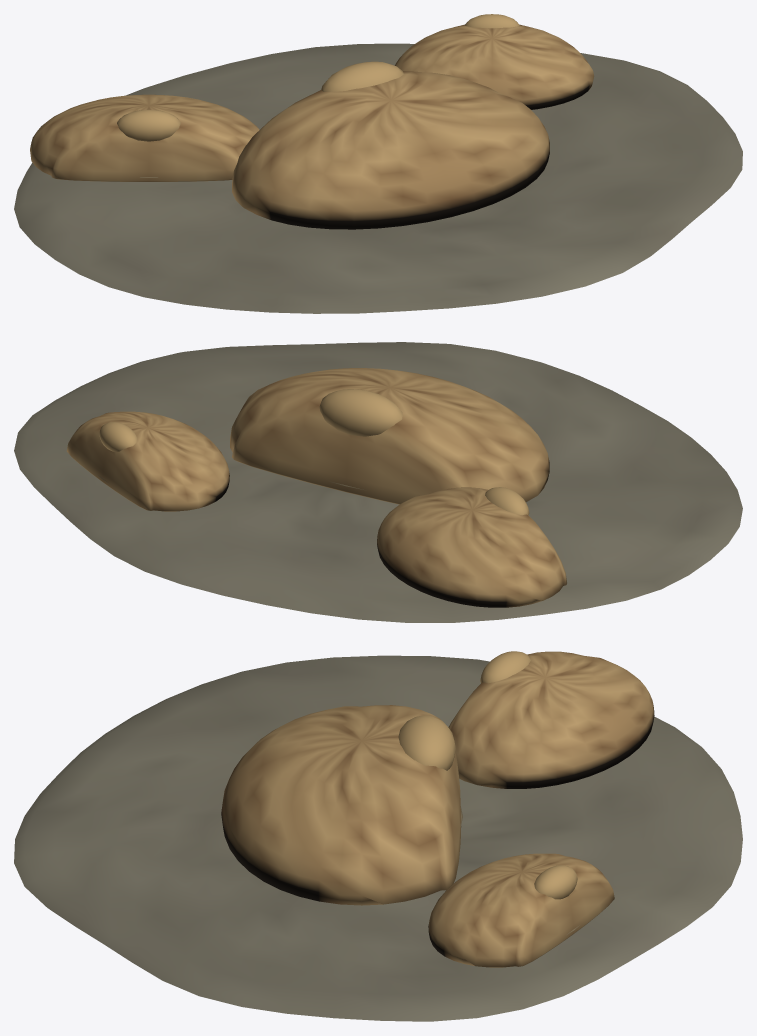
The model's file is Gigantoproductus.fbx.
3 renders of one model, top to bottom at view 1: azimuth 30°, elevation 25°; view 2: azimuth 150°, elevation 25°; view 3: azimuth 270°, elevation 25°, orthographic. The views are drawn at different scales.
Parts seen in each view (by area): view 1: Gigantoproductus; view 2: Gigantoproductus; view 3: Gigantoproductus.
Boxes of the visible parts, x1,y1,x2,y2 form: Gigantoproductus: [14, 14, 742, 313]; Gigantoproductus: [14, 342, 742, 622]; Gigantoproductus: [14, 651, 742, 1021].
Bounding box in the file's own units: 2.22 × 0.3251 × 1.87.
